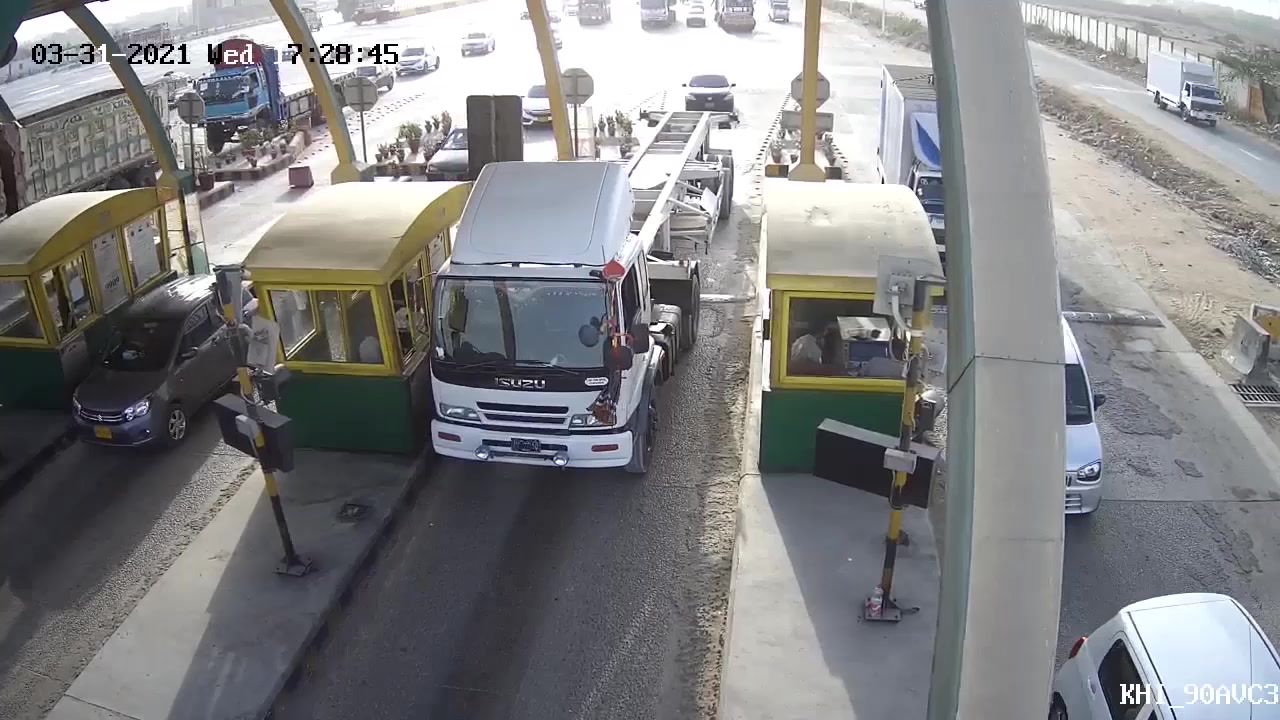F5: (392, 100, 729, 496)
